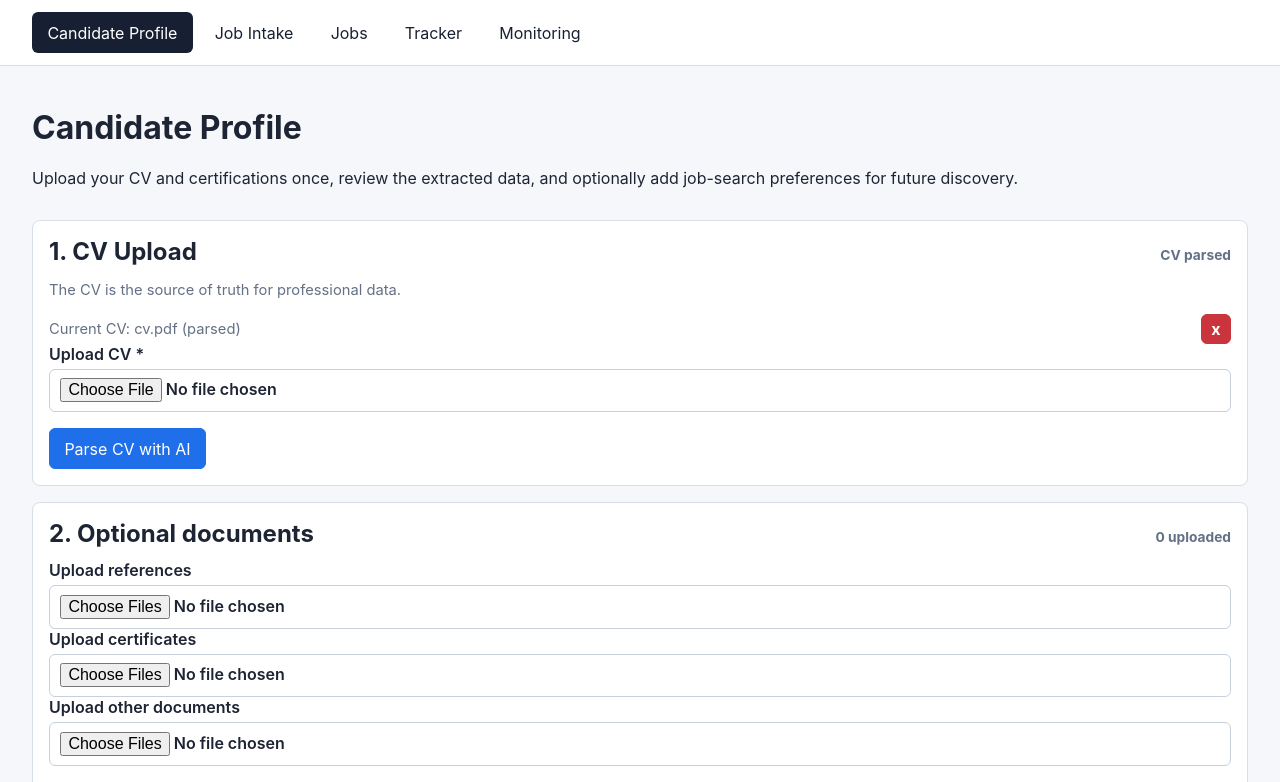
Test case: App workflow pages › refreshes the visible Jobs workspace after Karen executes a workflow action
Click the button "Jobs" at (349, 33), box [315, 12, 383, 53]
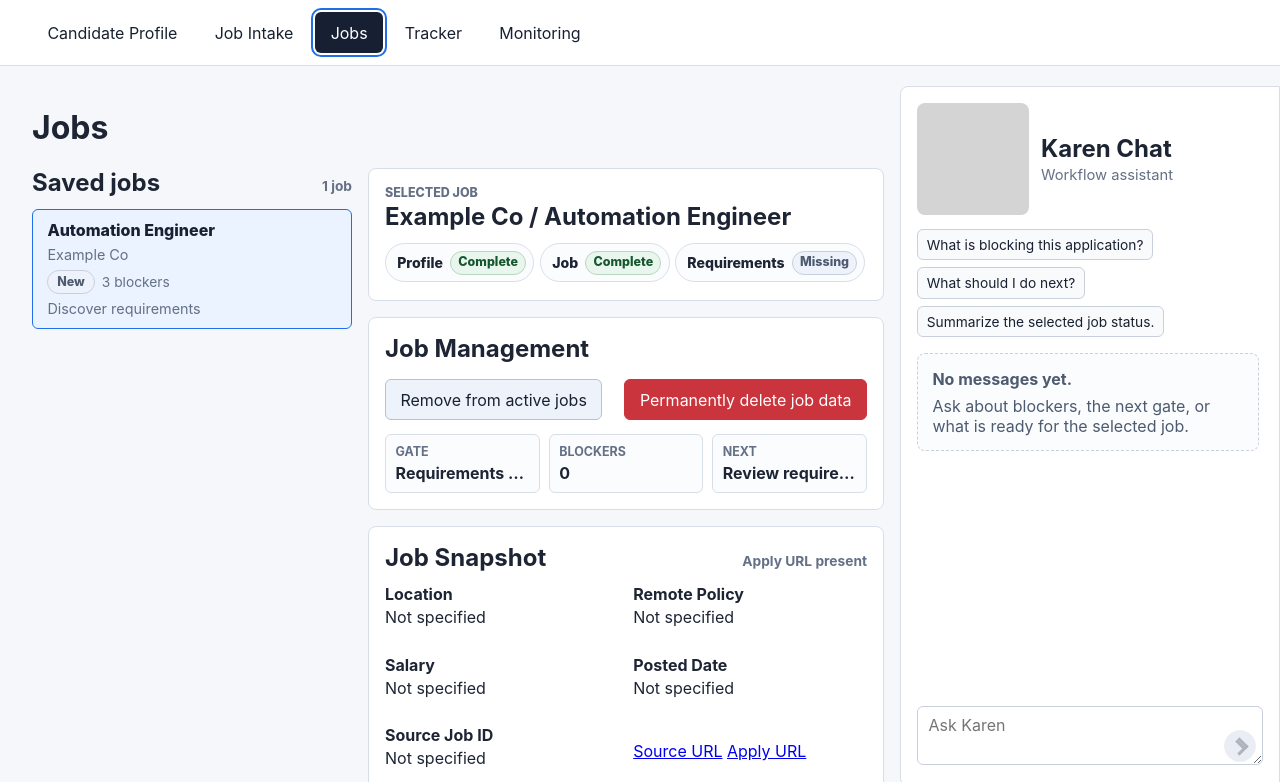
Type "Review the requirements" into the text box with placeholder "Ask Karen" at (1090, 735), box [917, 706, 1263, 765]
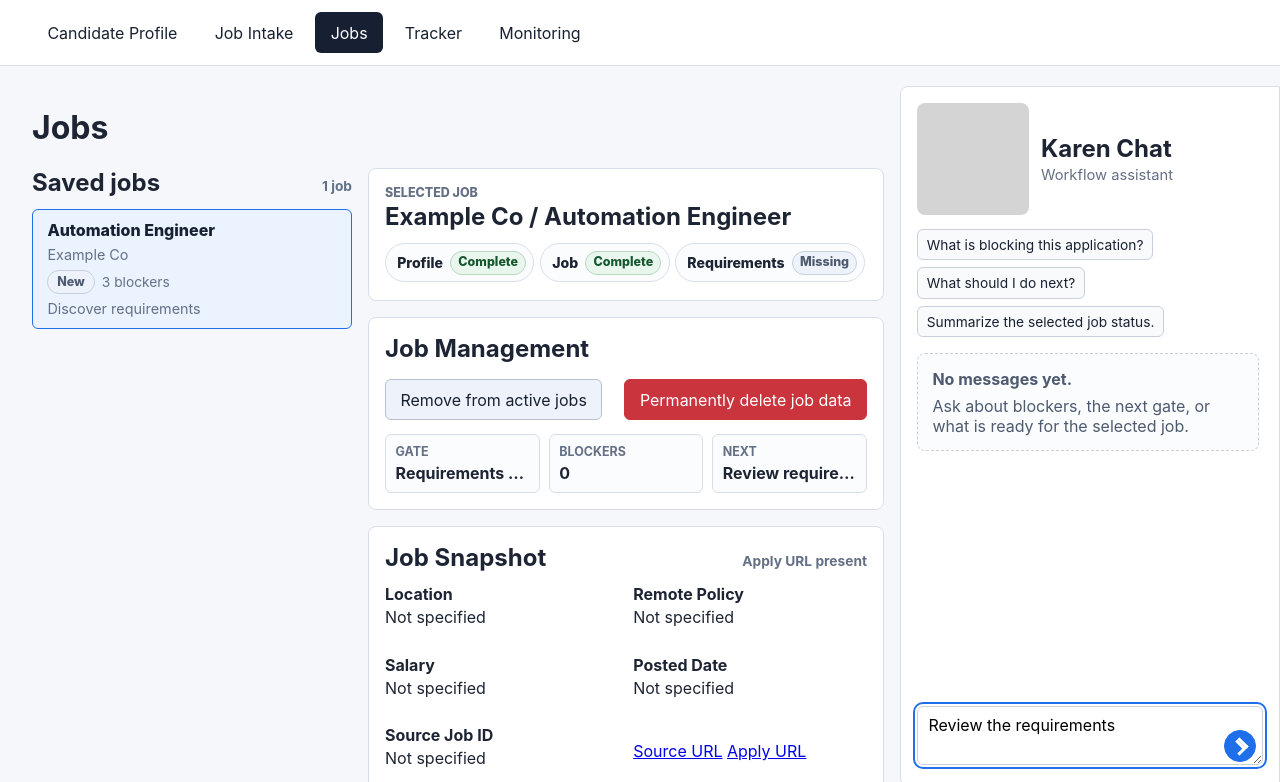
Click the button named "Ask Karen" at (1240, 746), box [1224, 730, 1256, 762]
(page scrolled)
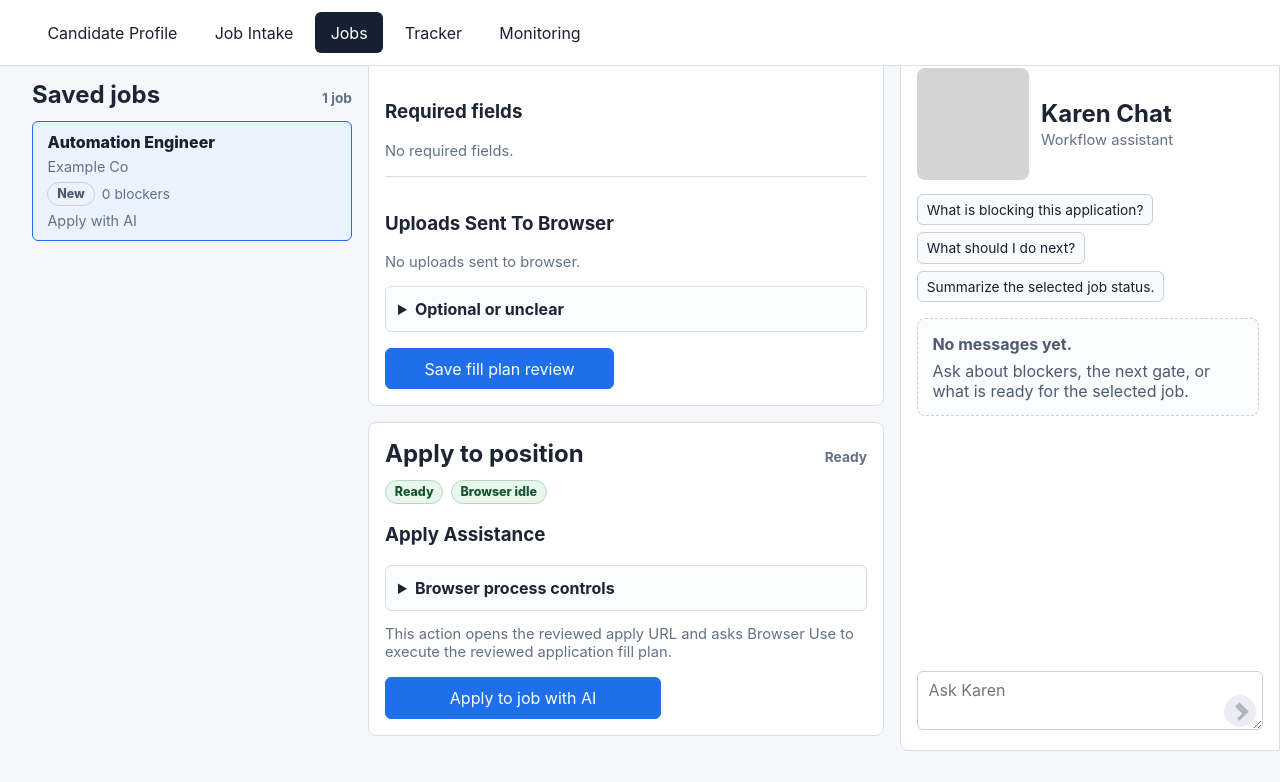
Result: the button "Apply to job with AI" is enabled at [385, 678, 661, 719]
